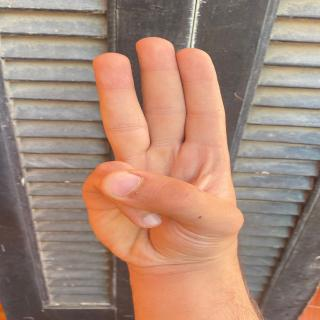THA: (66, 34, 277, 271)
